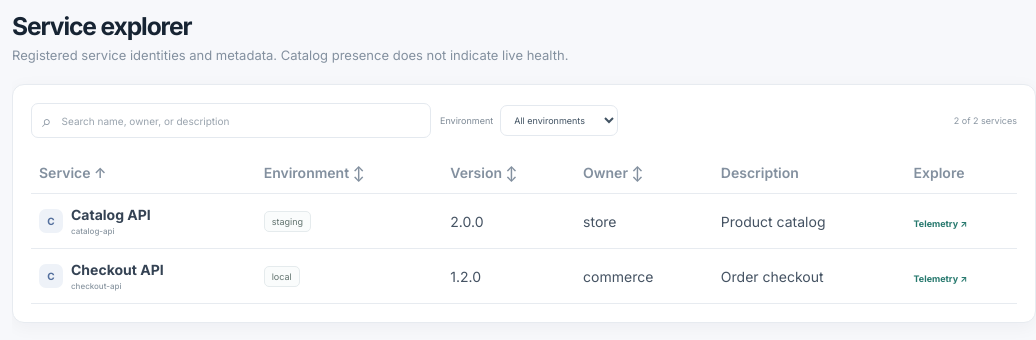
Scenario: service explorer searches registered metadata and links to the selected service telemetry
Expected: the text "Checkout API" is shown, [71,261,164,278]
Expected: the text "Catalog API" is shown, [71,206,151,223]
Type "commerce" into the field named "Search services" at coordinates (240, 120), box [60,114,420,128]
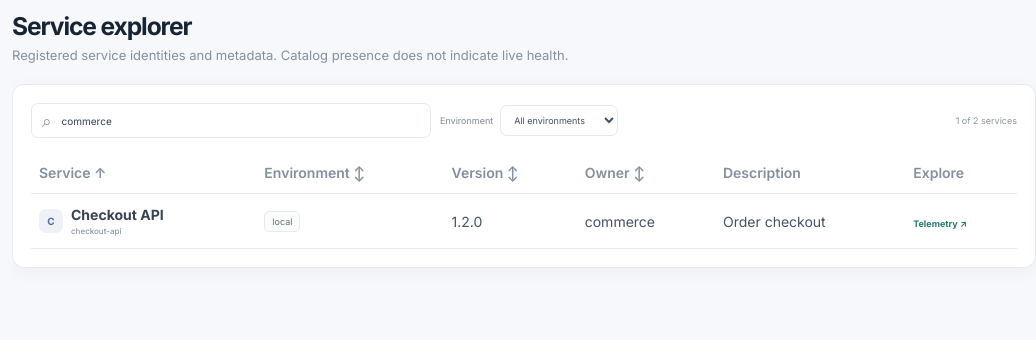
Expected: the text "Checkout API" is shown, [71,206,164,223]
Expected: the text "Catalog API" is gone
